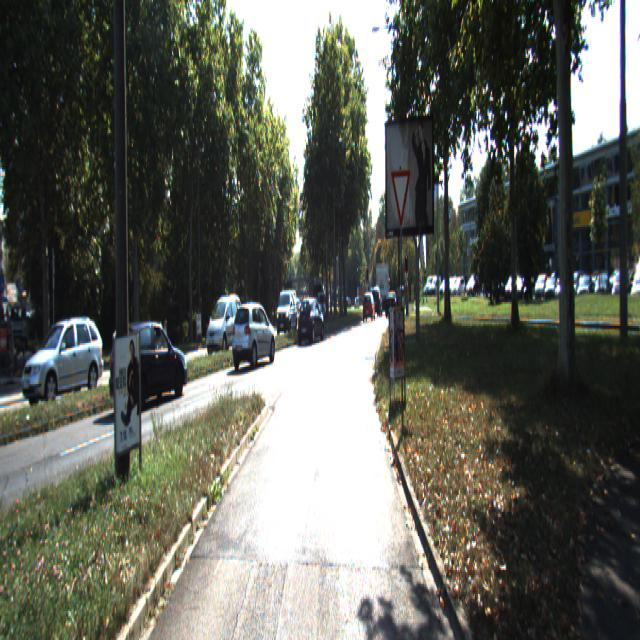Car: (20, 316, 106, 411), (108, 318, 189, 414), (232, 303, 277, 371), (205, 295, 244, 357), (298, 298, 325, 346), (276, 290, 298, 336), (363, 292, 376, 322)
